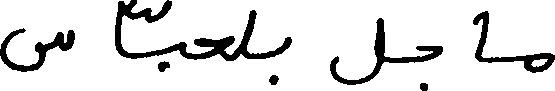X: (327, 13, 383, 89), (0, 23, 74, 76), (416, 41, 443, 90), (196, 31, 232, 65), (240, 5, 255, 63), (526, 48, 554, 77), (474, 6, 487, 66), (115, 0, 124, 61), (176, 37, 186, 62), (282, 32, 292, 57)
